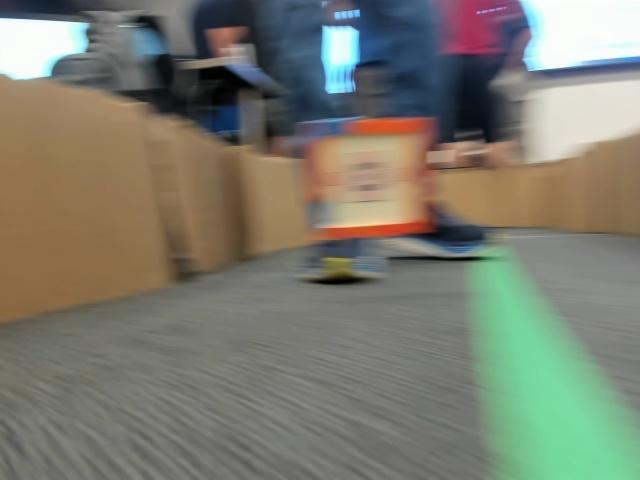Do Not Go Around: (324, 150, 416, 204)
